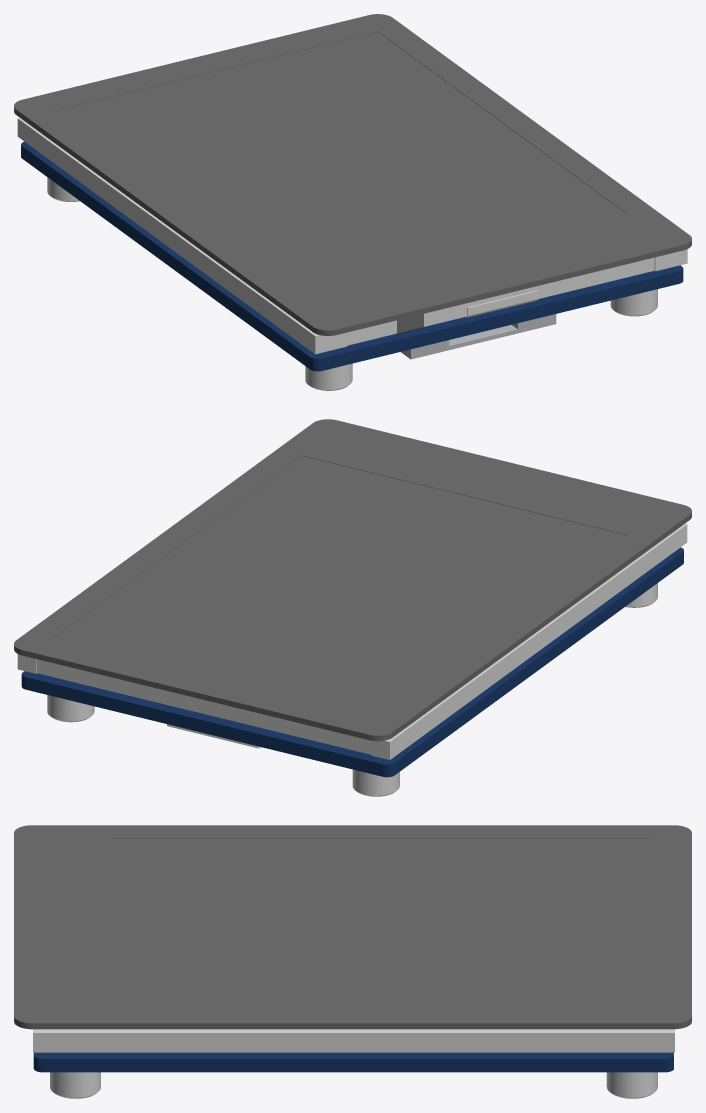
The model's file is lcd-27579.glb.
The picture shows the model from 3 angles, top to bottom: view 1: azimuth 30°, elevation 25°; view 2: azimuth 150°, elevation 25°; view 3: azimuth 270°, elevation 25°; orthographic projection. The views are drawn at different scales.
Visible parts, largest first — view 1: lcd-27579 / Imported CAD; view 2: lcd-27579 / Imported CAD; view 3: lcd-27579 / Imported CAD.
Part boxes in pixels (x1,y1,x2,y2): lcd-27579 / Imported CAD: (14,14,691,390); lcd-27579 / Imported CAD: (14,419,691,796); lcd-27579 / Imported CAD: (14,825,691,1098).
Bounding box in the file's own units: 50.54 × 10 × 73.06.
